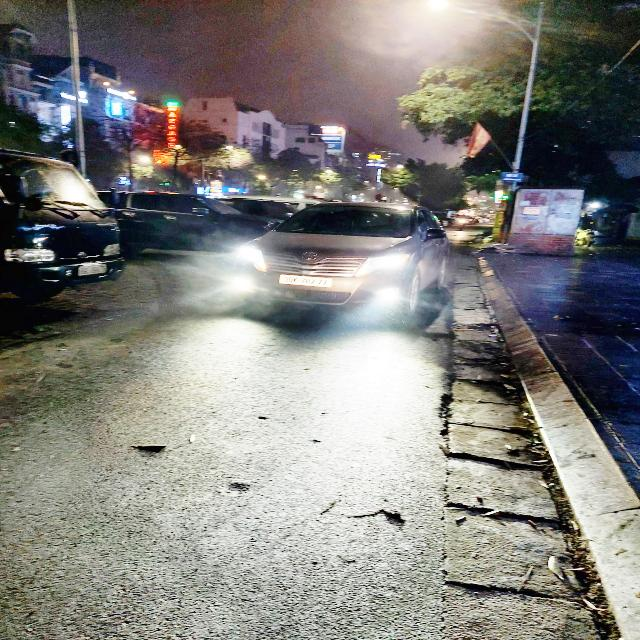license_plate: (280, 275, 335, 289)
